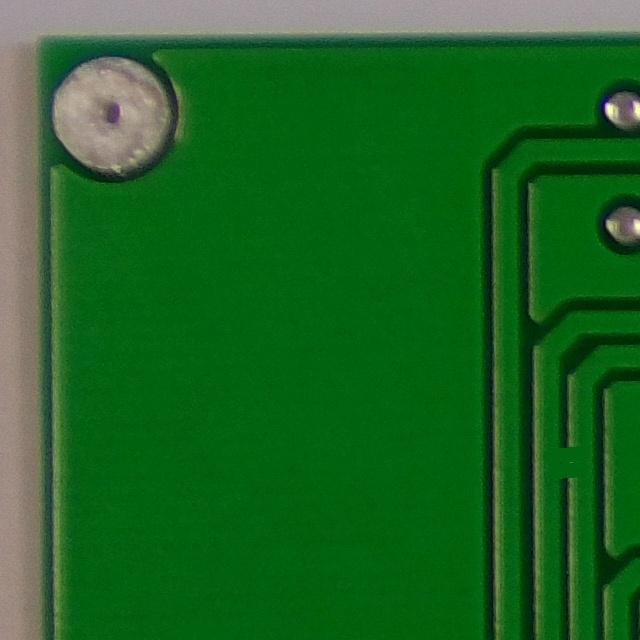short: (532, 434, 601, 492)
